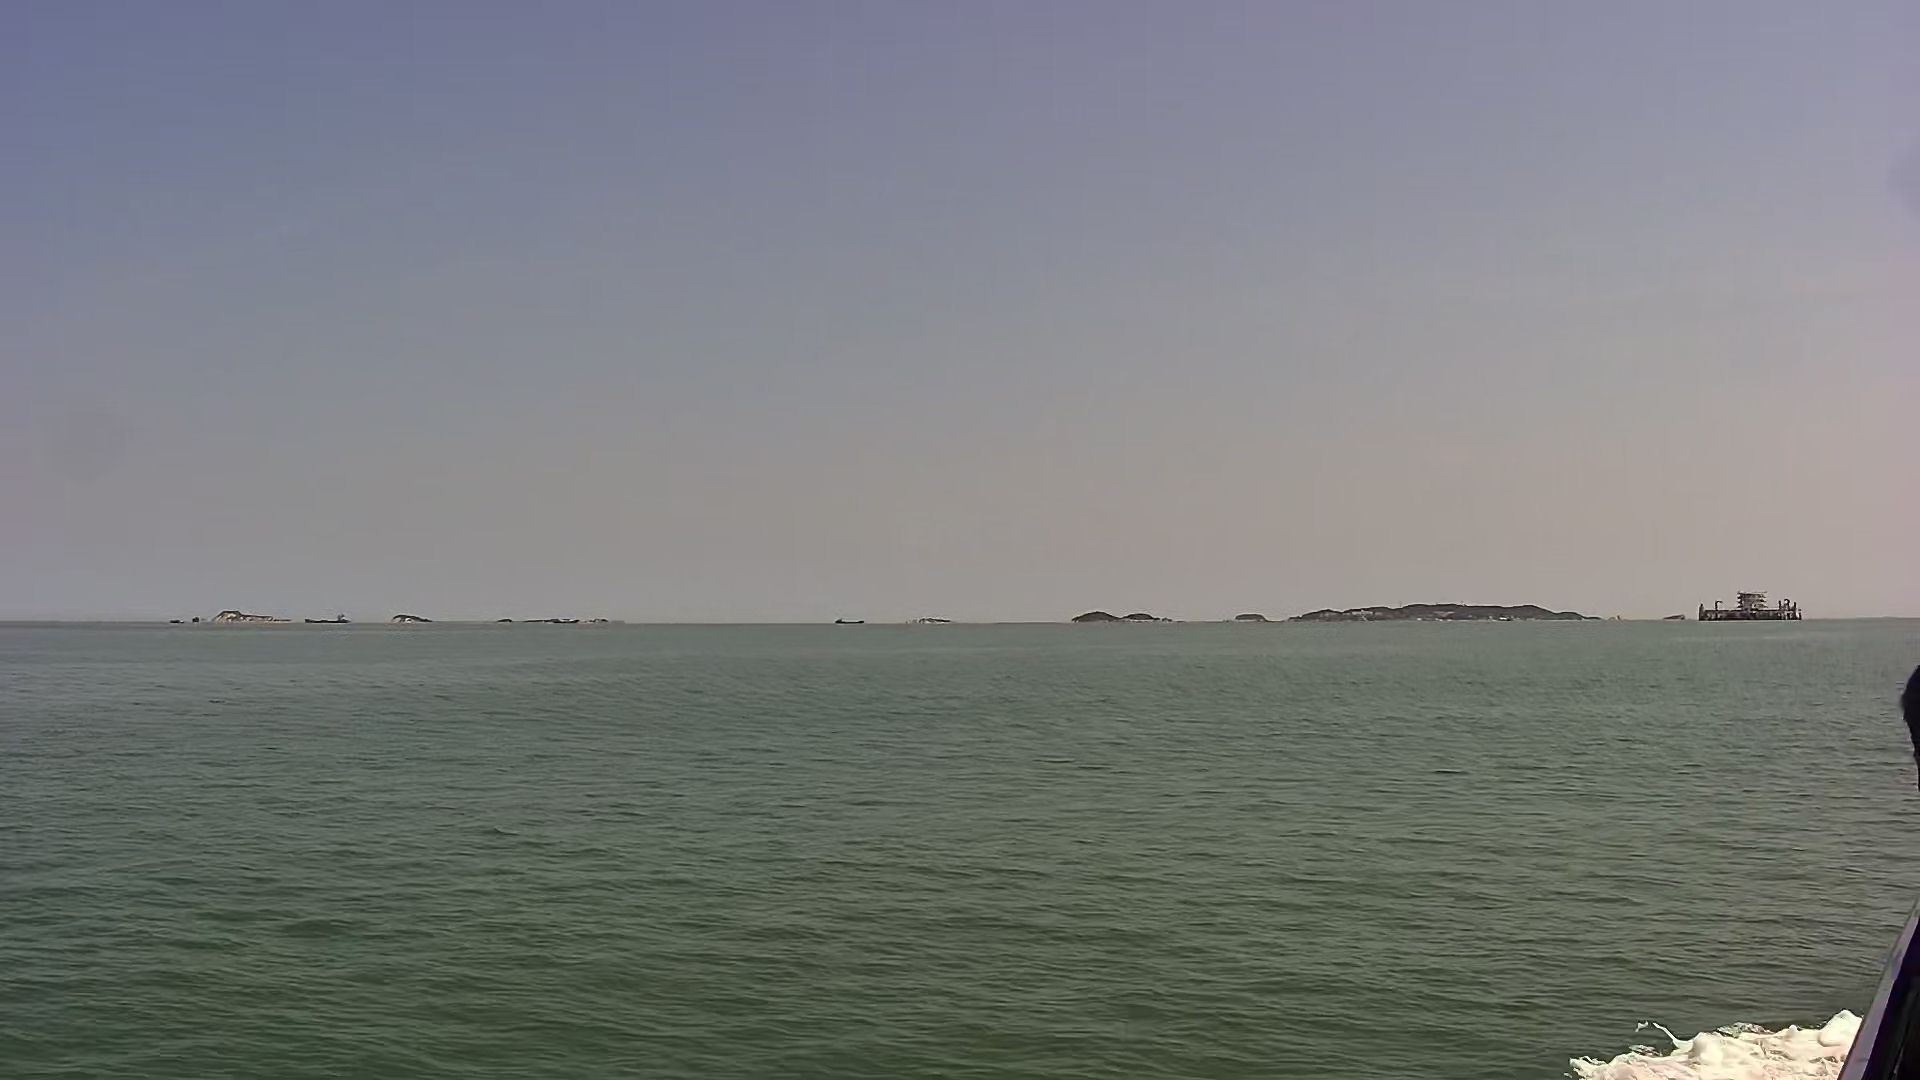platform: (1697, 589, 1811, 624)
rock: (1234, 601, 1619, 626), (1064, 612, 1182, 626)
